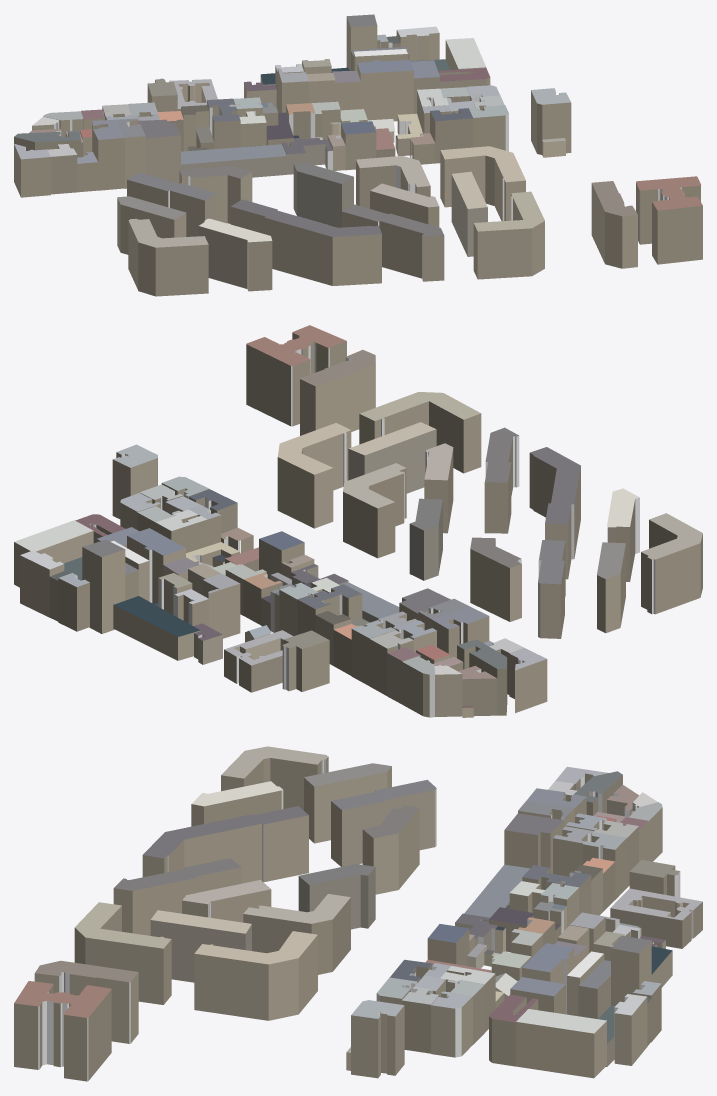
3 renders of one model, top to bottom at view 1: azimuth 30°, elevation 25°; view 2: azimuth 150°, elevation 25°; view 3: azimuth 270°, elevation 25°, orthographic. The views are drawn at different scales.
Parts seen in each view (by area): view 1: tuile; view 2: tuile; view 3: tuile.
Boxes of the visible parts, box(x1,y1,x2,y2) form: tuile: box(14, 14, 702, 296); tuile: box(14, 325, 702, 717); tuile: box(14, 746, 702, 1081).
Size of the model in its own units: 274 by 37.21 by 288.
